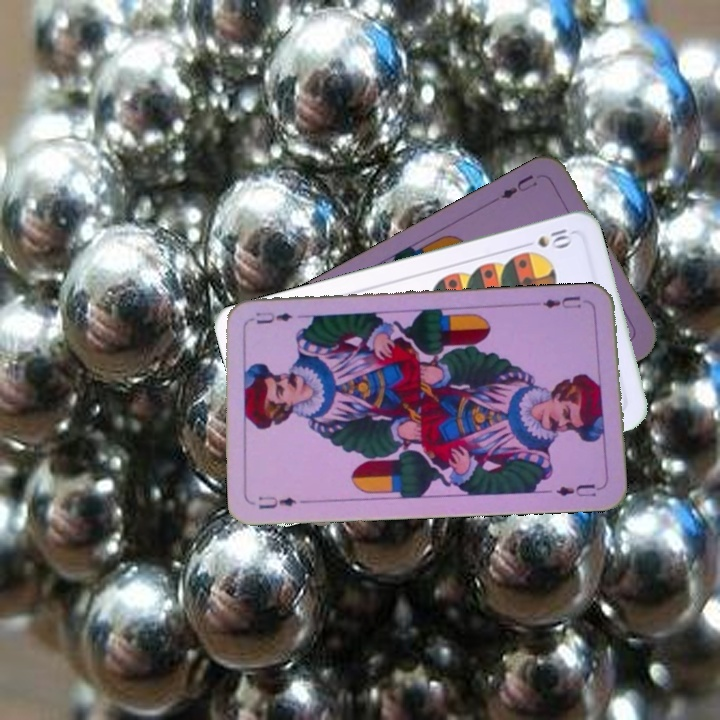EU: (496, 170, 540, 202), (254, 492, 299, 512), (538, 292, 583, 311)
S10: (517, 224, 575, 250)
